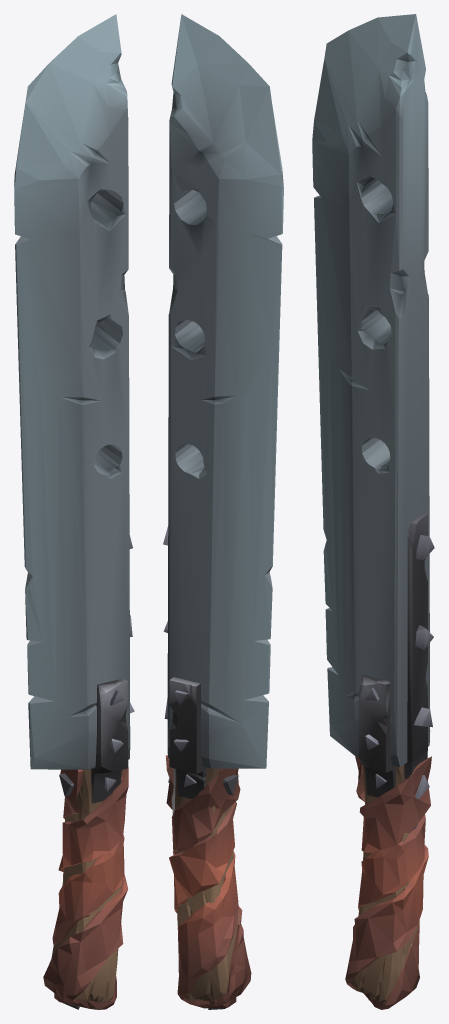
File: basic_machete.fbx
3 views of the same model, side by side, from view 1: azimuth 30°, elevation 25°; view 2: azimuth 150°, elevation 25°; view 3: azimuth 330°, elevation 25° (orthographic).
Visible parts, largest first — view 1: basic_machete; view 2: basic_machete; view 3: basic_machete.
Boxes of the visible parts, x1,y1,x2,y2 form: basic_machete: (14, 14, 134, 1009); basic_machete: (163, 14, 283, 1009); basic_machete: (312, 14, 434, 1009).
Bounding box in the file's own units: 0.1949 × 1.6 × 0.1361.
